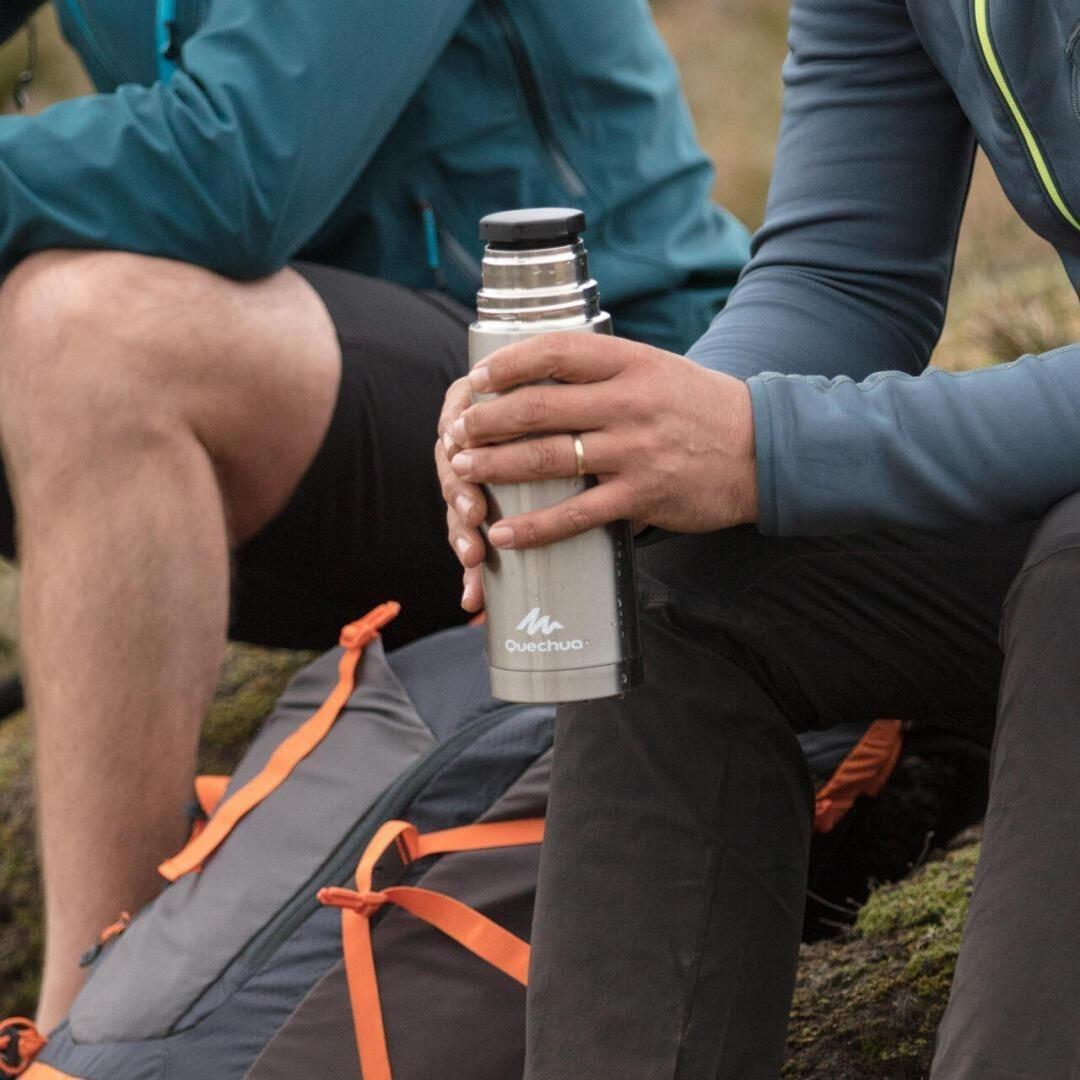gym bottle: (463, 205, 645, 706)
